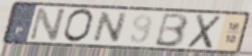9: (128, 12, 156, 45)
B: (152, 12, 191, 49)
N: (27, 6, 68, 42), (90, 10, 131, 44)
O: (61, 8, 95, 44)
X: (185, 13, 224, 51)
